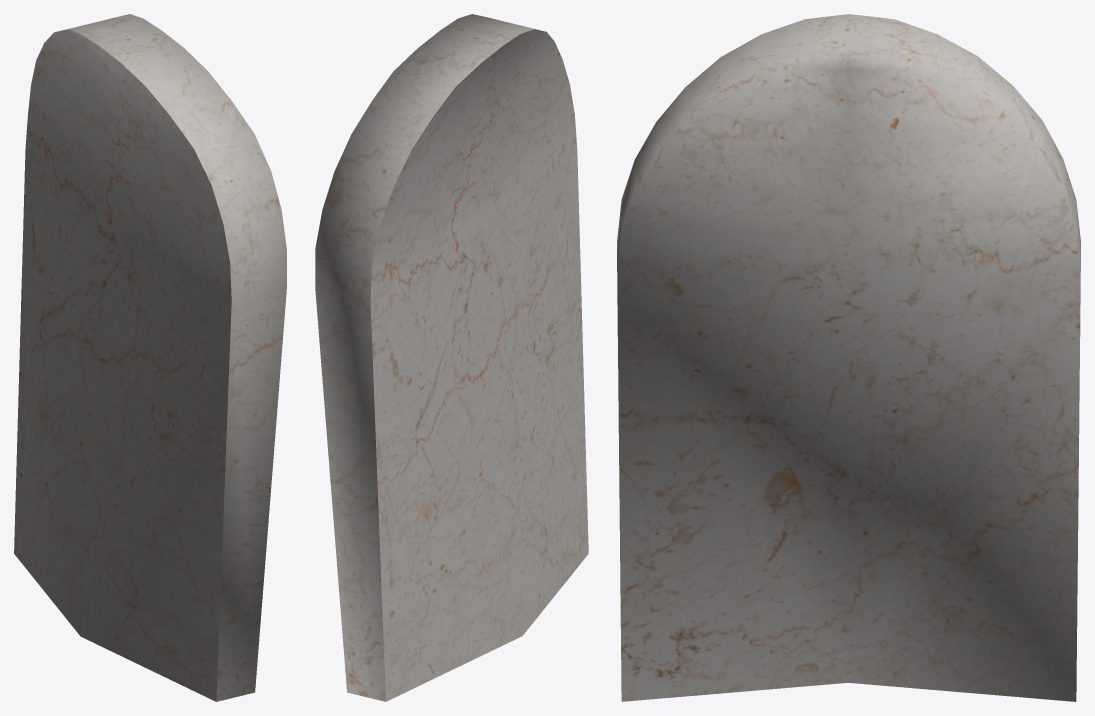
Rendered from Door.fbx.
3 views of the same model, side by side, from view 1: azimuth 30°, elevation 25°; view 2: azimuth 150°, elevation 25°; view 3: azimuth 270°, elevation 25° (orthographic). The views are drawn at different scales.
Visible parts, largest first — view 1: Door_Baked; view 2: Door_Baked; view 3: Door_Baked.
Boxes of the visible parts, bbox=[...] form: Door_Baked: bbox=[14, 14, 286, 701]; Door_Baked: bbox=[315, 14, 588, 701]; Door_Baked: bbox=[617, 14, 1080, 701].
Bounding box in the file's own units: 45.86 × 242 × 155.
